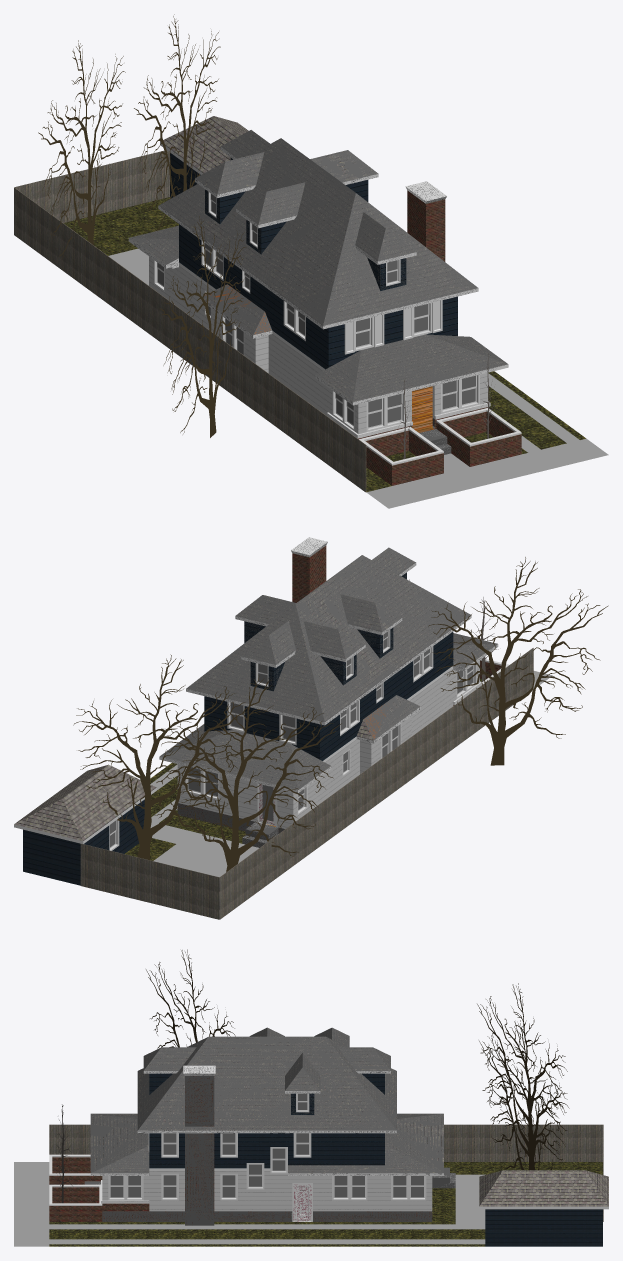
Rendered from cityhouse.dae.
The picture shows the model from 3 angles, top to bottom: view 1: azimuth 30°, elevation 25°; view 2: azimuth 150°, elevation 25°; view 3: azimuth 270°, elevation 25°; orthographic projection. The views are drawn at different scales.
Visible parts, largest first — view 1: Model, Group50, Group1, Group19, _2D_winter_tree_h_002, _2D_winter_tree_h_000, _2D_winter_tree_h_001; view 2: Model, Group50, Group1, Group19, _2D_winter_tree_h_002, _2D_winter_tree_h_000, _2D_winter_tree_h_001, Group48, Group49; view 3: Model, Group50, Group19, Group1, _2D_winter_tree_h_001, _2D_winter_tree_h_000, _2D_winter_tree_h_002, Group20, Group32, Group34, Group33, Group35 (+9 smaller).
Boxes of the visible parts, x1=… form: Model: x1=14, y1=116, x2=608, y2=508; Group50: x1=158, y1=130, x2=478, y2=329; Group1: x1=128, y1=224, x2=508, y2=405; Group19: x1=149, y1=181, x2=490, y2=439; _2D_winter_tree_h_002: x1=159, y1=216, x2=246, y2=437; _2D_winter_tree_h_000: x1=38, y1=40, x2=125, y2=257; _2D_winter_tree_h_001: x1=134, y1=14, x2=220, y2=231; Model: x1=14, y1=648, x2=552, y2=919; Group50: x1=186, y1=547, x2=471, y2=725; Group1: x1=159, y1=632, x2=498, y2=792; Group19: x1=177, y1=537, x2=482, y2=833; _2D_winter_tree_h_002: x1=428, y1=557, x2=608, y2=765; _2D_winter_tree_h_000: x1=161, y1=675, x2=341, y2=872; _2D_winter_tree_h_001: x1=73, y1=654, x2=253, y2=860; Group48: x1=257, y1=783, x2=277, y2=826; Group49: x1=242, y1=822, x2=278, y2=847; Model: x1=14, y1=1124, x2=608, y2=1246; Group50: x1=137, y1=1027, x2=396, y2=1133; Group19: x1=101, y1=1065, x2=432, y2=1225; Group1: x1=90, y1=1113, x2=443, y2=1175; _2D_winter_tree_h_001: x1=479, y1=1020, x2=569, y2=1170; _2D_winter_tree_h_000: x1=477, y1=983, x2=567, y2=1170; _2D_winter_tree_h_002: x1=146, y1=949, x2=235, y2=1048; Group20: x1=292, y1=1183, x2=312, y2=1221; Group32: x1=246, y1=1163, x2=264, y2=1189; Group34: x1=161, y1=1173, x2=178, y2=1200; Group33: x1=220, y1=1173, x2=237, y2=1200; Group35: x1=270, y1=1147, x2=287, y2=1173.
Bounding box in the file's own units: 690 × 1212 × 414.
40 materials, 16 textured.
